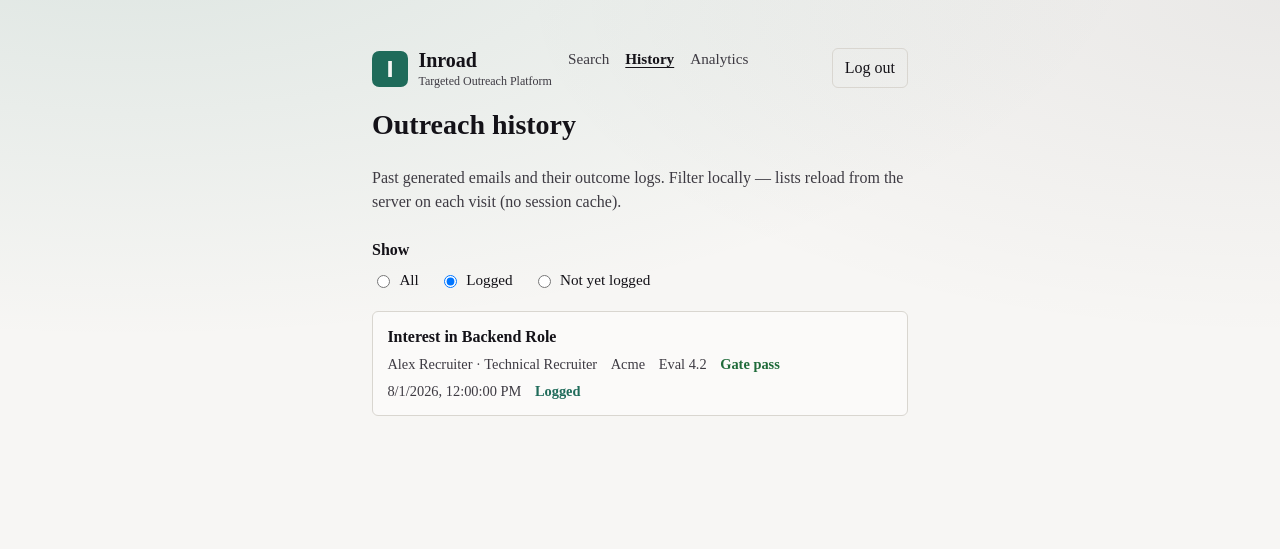
Test: HistoryPage › filter toggle shows all and unlogged emails
This screenshot has width=1280, height=549.
Expected: the text "Interest in Backend Role" is shown, [387,328,556,345]
Click the radio button labelled "All" at [384, 282], box [377,275,390,288]
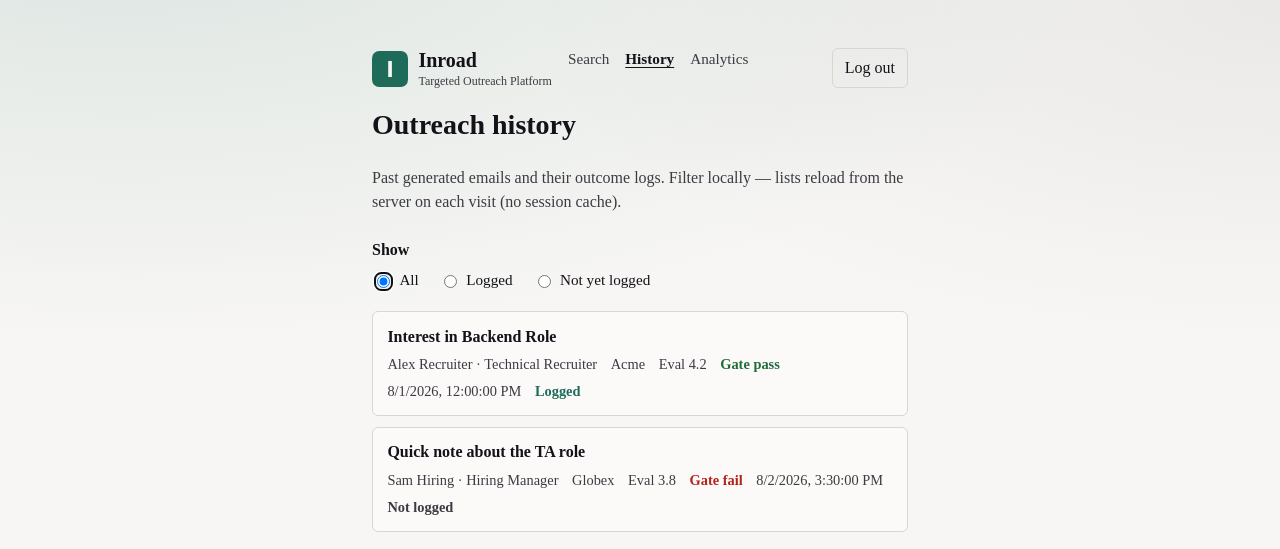
Expected: the text "Interest in Backend Role" is shown, [387,328,556,345]
Now the text "Quick note about the TA role" is shown, box [387,443,585,460]
Click the radio button labelled "Not yet logged" at [544, 282], box [538,275,551,288]
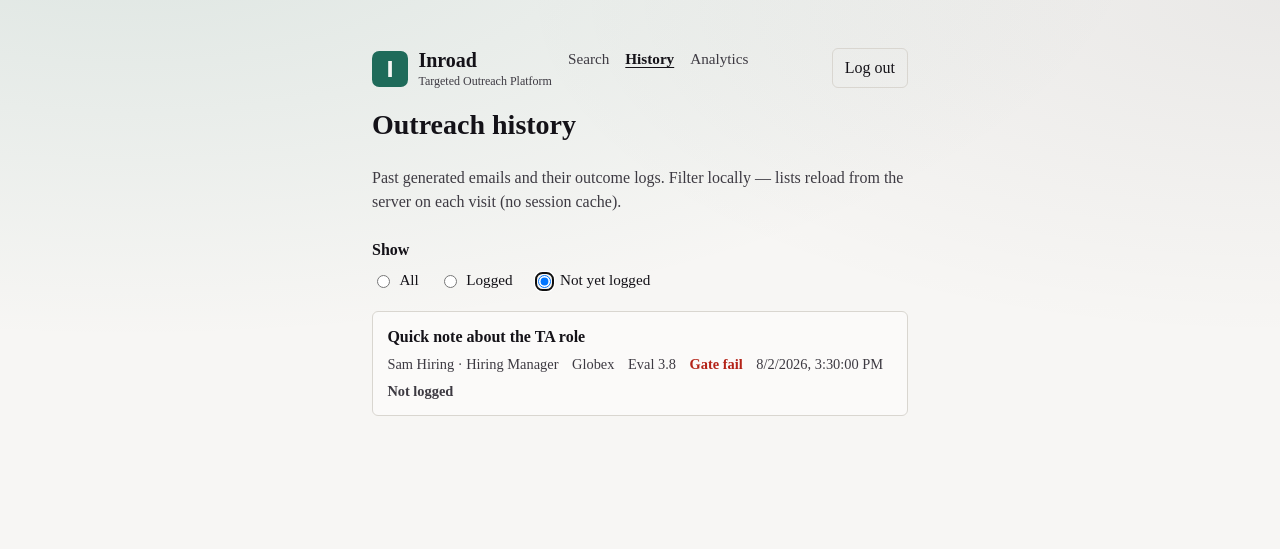
Now the text "Quick note about the TA role" is shown, box [387,328,585,345]
Now the button "Interest in Backend Role" is gone
